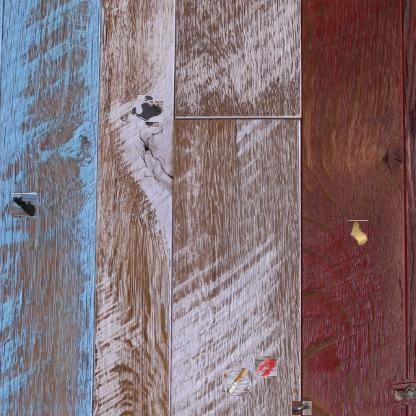dirty: (224, 368, 250, 394), (12, 193, 37, 217), (393, 380, 416, 404), (348, 220, 368, 247), (291, 401, 312, 415)
liquid: (134, 98, 162, 125), (256, 357, 276, 377)
